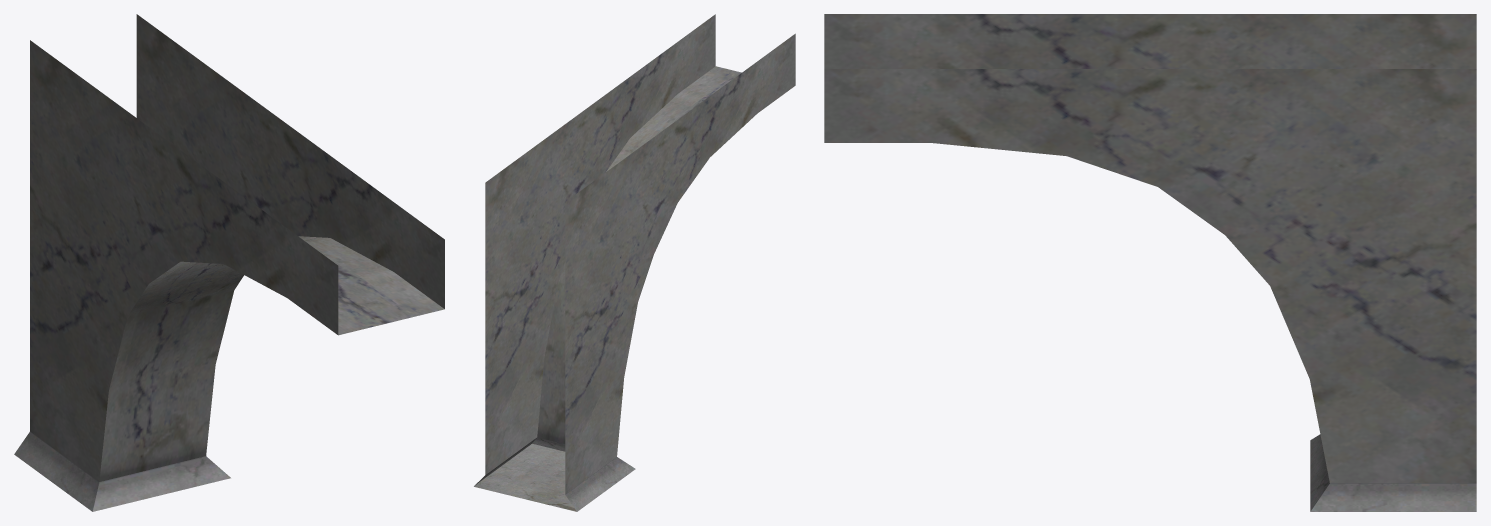
Rendered from arch_2m_corner_piece.fbx.
3 views of the same model, side by side, from view 1: azimuth 30°, elevation 25°; view 2: azimuth 150°, elevation 25°; view 3: azimuth 270°, elevation 25° (orthographic). The views are drawn at different scales.
Parts seen in each view (by area): view 1: mesh_0; view 2: mesh_0; view 3: mesh_0.
Part boxes in pixels (<box>): mesh_0: <box>14,14,444,511</box>; mesh_0: <box>474,14,795,511</box>; mesh_0: <box>824,14,1476,511</box>.
Bounding box in the file's own units: 52 × 147 × 200.
1 material, 1 textured.
